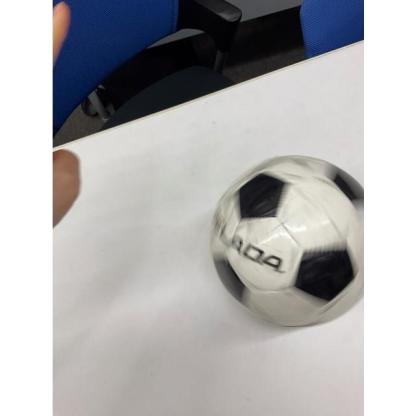ball: (213, 156, 363, 328)
